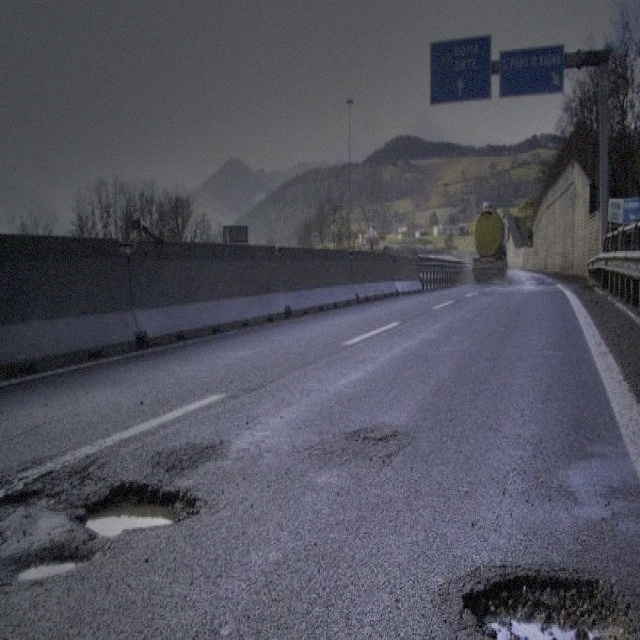pothole: (450, 551, 614, 633), (76, 477, 204, 542), (8, 540, 94, 584), (343, 421, 402, 451), (2, 487, 46, 510)
